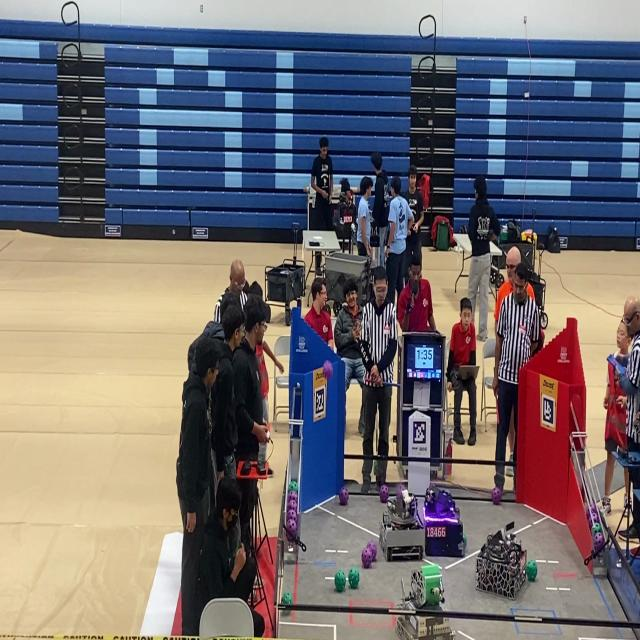artifact_green: (419, 565, 443, 606), (334, 570, 346, 592), (525, 561, 538, 581), (593, 533, 605, 554), (349, 568, 359, 589), (281, 592, 292, 605), (592, 523, 602, 536), (288, 480, 298, 492), (462, 534, 467, 549), (373, 460, 377, 476), (462, 534, 467, 546)
artifact_purple: (362, 547, 374, 569), (593, 533, 605, 553), (286, 518, 297, 538), (589, 504, 599, 524), (379, 484, 389, 504), (368, 541, 377, 561), (339, 487, 348, 506), (323, 360, 332, 379), (396, 483, 405, 502), (492, 487, 502, 504), (590, 511, 600, 526), (586, 510, 594, 528), (288, 491, 298, 503), (287, 509, 297, 520), (287, 501, 297, 511), (286, 532, 295, 541), (590, 504, 598, 514), (590, 502, 597, 512)
